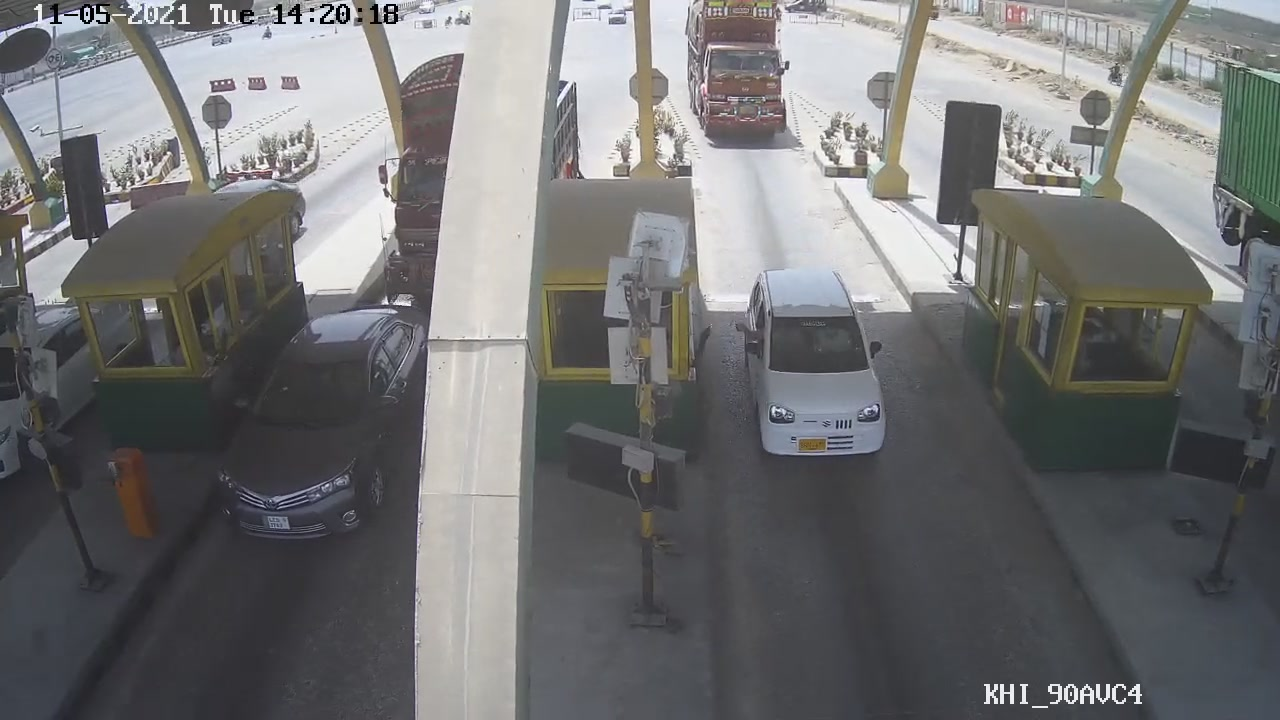F1: (737, 268, 895, 463)
